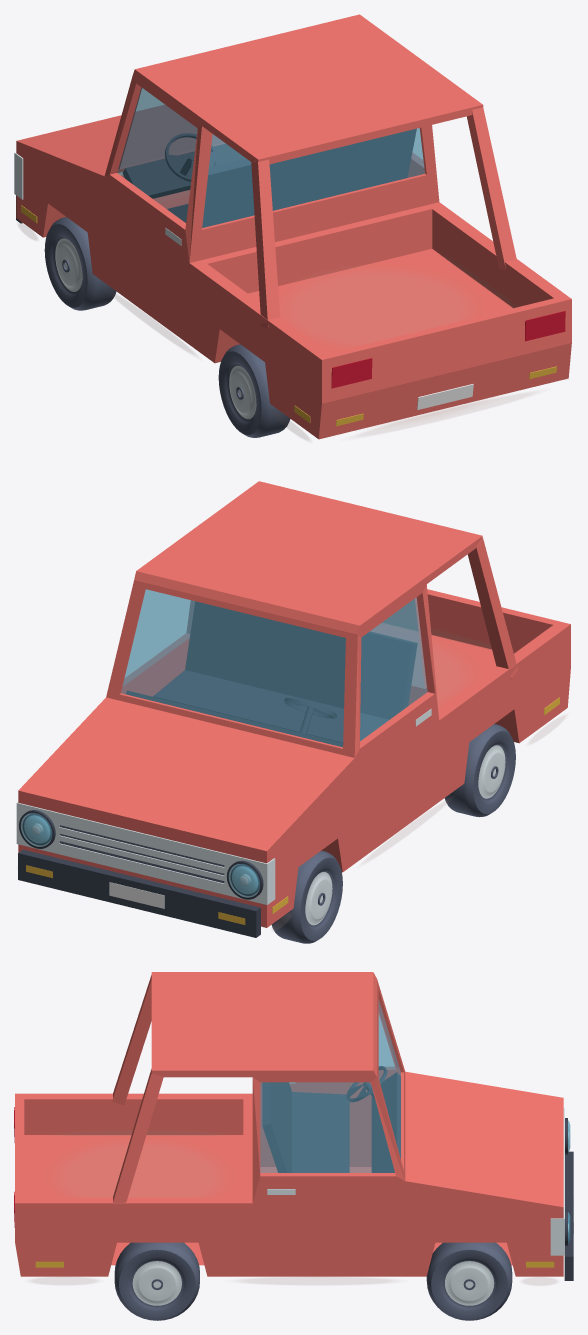
The model's file is car.glb.
3 renders of one model, top to bottom at view 1: azimuth 30°, elevation 25°; view 2: azimuth 150°, elevation 25°; view 3: azimuth 270°, elevation 25°, orthographic. The views are drawn at different scales.
Visible parts, largest first — view 1: Cube_2_3, Cube_2_3_Mat.1_0.001, Cube, Cube_13, Cylinder_1_2, Cylinder_7, Cube_1_2, Cube_2_2, Cube_15, Cube_1, Cube_12, Cube_11 (+3 smaller); view 2: Cube_2_3, Cube_2_3_Mat.1_0.001, Cube_13, Cube_3_2, Cube_4, Cube_14, Cylinder_1_2, Cylinder_7, Cube_1_2, Cube, Cylinder_2_3, Cylinder_2 (+5 smaller); view 3: Cube_2_3, Cube_2_3_Mat.1_0.001, Cube, Cylinder_5, Cylinder_6, Cube_14, Cube_13, Cube_15, Cube_2_2, Cube_1_2, Cube_4, Cube_2 (+1 smaller).
Part boxes in pixels (bbox=[...]): Cube_2_3: bbox=[16, 14, 571, 439]; Cube_2_3_Mat.1_0.001: bbox=[117, 87, 424, 227]; Cube: bbox=[292, 257, 516, 344]; Cube_13: bbox=[186, 128, 416, 227]; Cylinder_1_2: bbox=[218, 344, 290, 437]; Cylinder_7: bbox=[44, 217, 116, 310]; Cube_1_2: bbox=[251, 159, 279, 327]; Cube_2_2: bbox=[466, 107, 516, 269]; Cube_15: bbox=[123, 144, 246, 198]; Cube_1: bbox=[273, 393, 532, 439]; Cube_12: bbox=[331, 358, 372, 388]; Cube_11: bbox=[525, 311, 565, 341]; Cube_2_3: bbox=[18, 481, 570, 927]; Cube_2_3_Mat.1_0.001: bbox=[121, 589, 427, 747]; Cube_13: bbox=[185, 601, 417, 719]; Cube_3_2: bbox=[16, 802, 275, 904]; Cube_4: bbox=[18, 849, 260, 937]; Cube_14: bbox=[153, 670, 388, 742]; Cylinder_1_2: bbox=[444, 724, 515, 817]; Cylinder_7: bbox=[271, 850, 342, 943]; Cube_1_2: bbox=[467, 538, 517, 678]; Cube: bbox=[431, 629, 491, 699]; Cylinder_2_3: bbox=[226, 860, 263, 899]; Cylinder_2: bbox=[19, 810, 55, 848]; Cube_2_3: bbox=[15, 972, 563, 1276]; Cube_2_3_Mat.1_0.001: bbox=[260, 1000, 400, 1172]; Cube: bbox=[62, 1130, 217, 1196]; Cylinder_5: bbox=[114, 1242, 199, 1320]; Cylinder_6: bbox=[426, 1242, 512, 1320]; Cube_14: bbox=[292, 1092, 349, 1172]; Cube_13: bbox=[262, 1082, 291, 1172]; Cube_15: bbox=[371, 1072, 400, 1172]; Cube_2_2: bbox=[113, 1069, 163, 1202]; Cube_1_2: bbox=[112, 975, 151, 1105]; Cube_4: bbox=[564, 1151, 573, 1280]; Cube_2: bbox=[243, 1277, 390, 1284].
Size of what is drawn, in the model's own units: 0.1639 by 0.167 by 0.343.
Materials: 10 (1 with a texture image).
